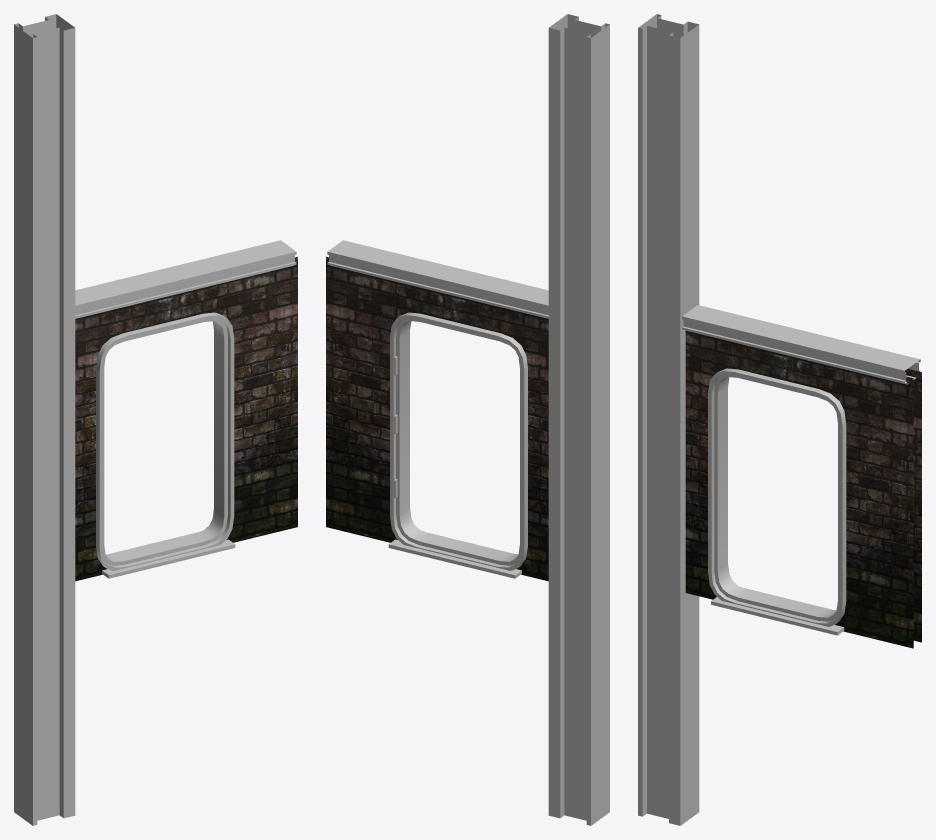
The model's file is door_frame.DAE.
The picture shows the model from 3 angles, left to right: view 1: azimuth 30°, elevation 25°; view 2: azimuth 150°, elevation 25°; view 3: azimuth 330°, elevation 25°; orthographic projection.
Visible parts, largest first — view 1: girder_single, door_frame_wall, sewer_door_02_frame, cross_beam_door_frame; view 2: girder_single, door_frame_wall, sewer_door_02_frame, cross_beam_door_frame; view 3: girder_single, door_frame_wall, sewer_door_02_frame, cross_beam_door_frame.
Boxes of the visible parts, bbox=[...] form: girder_single: bbox=[14, 14, 75, 825]; door_frame_wall: bbox=[75, 256, 297, 581]; sewer_door_02_frame: bbox=[96, 312, 234, 570]; cross_beam_door_frame: bbox=[75, 240, 296, 578]; girder_single: bbox=[548, 14, 609, 825]; door_frame_wall: bbox=[326, 256, 548, 581]; sewer_door_02_frame: bbox=[390, 312, 527, 570]; cross_beam_door_frame: bbox=[327, 240, 548, 578]; girder_single: bbox=[638, 14, 699, 825]; door_frame_wall: bbox=[685, 331, 921, 648]; sewer_door_02_frame: bbox=[708, 368, 846, 626]; cross_beam_door_frame: bbox=[682, 305, 920, 635].
Size of the model in its own units: 3.01 by 0.4227 by 8.4.
